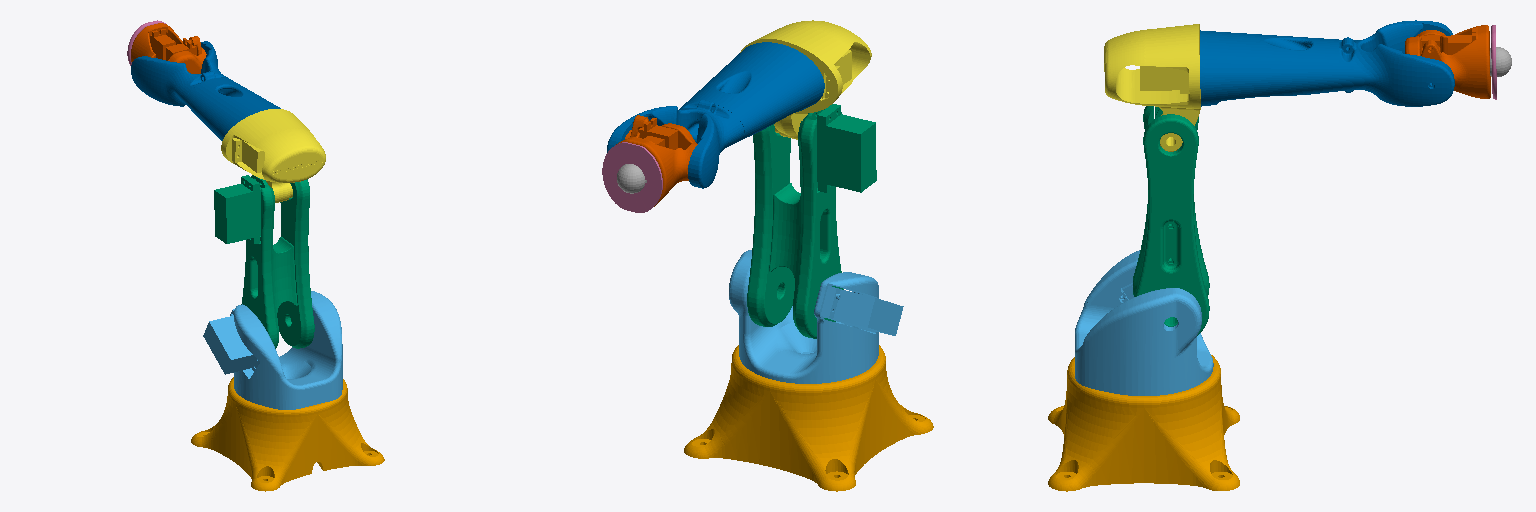
The robot description file, URDF, robot "yara":
<?xml version="1.0" encoding="utf-8"?>
<!-- =================================================================================== -->
<!-- |    This document was autogenerated by xacro from yara.urdf.xacro                | -->
<!-- |    EDITING THIS FILE BY HAND IS NOT RECOMMENDED                                 | -->
<!-- =================================================================================== -->
<robot name="yara">
  <link name="base_link">
    <visual>
      <geometry>
        <mesh filename="package://yara_meshes/files/base.obj"/>
      </geometry>
      <origin rpy="0 0 3.14159265359" xyz="0 0 0"/>
    </visual>
  </link>
  <link name="link_1">
    <visual>
      <geometry>
        <mesh filename="package://yara_meshes/files/link1.obj"/>
      </geometry>
      <origin rpy="0 0 3.14159265359" xyz="0 0 -0.054355"/>
    </visual>
  </link>
  <joint name="base_to_link_1" type="revolute">
    <axis xyz="0 0 1"/>
    <limit effort="1000.0" lower="-1.57079632679" upper="1.57079632679" velocity="0.5"/>
    <parent link="base_link"/>
    <child link="link_1"/>
    <origin rpy="0 0 0" xyz="0 0 0.054355"/>
  </joint>
  <link name="link_2">
    <visual>
      <geometry>
        <mesh filename="package://yara_meshes/files/link2.obj"/>
      </geometry>
      <origin rpy="0 0 3.14159265359" xyz="0 -.017415 -.109967"/>
    </visual>
  </link>
  <joint name="link_1_to_link_2" type="revolute">
    <axis xyz="1 0 0"/>
    <limit effort="1000.0" lower="-1.57079632679" upper="1.57079632679" velocity="0.5"/>
    <parent link="link_1"/>
    <child link="link_2"/>
    <origin rpy="0 0 0" xyz="0 .017415 0.055612"/>
  </joint>
  <link name="link_3">
    <visual>
      <geometry>
        <mesh filename="package://yara_meshes/files/link3.obj"/>
      </geometry>
      <origin rpy="0 0 3.14159265359" xyz="0 -.017415 -.229967"/>
    </visual>
  </link>
  <joint name="link_2_to_link_3" type="revolute">
    <axis xyz="1 0 0"/>
    <limit effort="1000.0" lower="-1.57079632679" upper="1.57079632679" velocity="0.5"/>
    <parent link="link_2"/>
    <child link="link_3"/>
    <origin rpy="0 0 0" xyz="0 0 0.12"/>
  </joint>
  <link name="link_4">
    <visual>
      <geometry>
        <mesh filename="package://yara_meshes/files/link4.obj"/>
      </geometry>
      <origin rpy="0 0 3.14159265359" xyz="0 -.041358 -.273945"/>
    </visual>
  </link>
  <joint name="link_3_to_link_4" type="revolute">
    <axis xyz="0 1 0"/>
    <limit effort="1000.0" lower="-1.57079632679" upper="1.57079632679" velocity="0.5"/>
    <parent link="link_3"/>
    <child link="link_4"/>
    <origin rpy="0 0 0" xyz="0 0.023943 0.043978"/>
  </joint>
  <link name="link_5">
    <visual>
      <geometry>
        <mesh filename="package://yara_meshes/files/link5.obj"/>
      </geometry>
      <origin rpy="0 0 3.14159265359" xyz="0 -0.186507 -.277517"/>
    </visual>
  </link>
  <joint name="link_4_to_link_5" type="revolute">
    <axis xyz="-1 0 0"/>
    <limit effort="1000.0" lower="-1.57079632679" upper="1.57079632679" velocity="0.5"/>
    <parent link="link_4"/>
    <child link="link_5"/>
    <origin rpy="0 0 0" xyz="0 0.145149 0.003572"/>
  </joint>
  <link name="link_6">
    <visual>
      <geometry>
        <mesh filename="package://yara_meshes/files/link6.obj"/>
      </geometry>
      <origin rpy="0 0 3.14159265359" xyz="0 -0.228778 -.27839"/>
    </visual>
  </link>
  <joint name="link_5_to_link_6" type="revolute">
    <axis xyz="0 1 0"/>
    <limit effort="1000.0" lower="-1.57079632679" upper="1.57079632679" velocity="0.5"/>
    <parent link="link_5"/>
    <child link="link_6"/>
    <origin rpy="0 0 0" xyz="0 0.042271 0.000873"/>
  </joint>
  <link name="ee">
    <visual>
      <geometry>
        <sphere radius=".01"/>
      </geometry>
      <origin rpy="0 0 0" xyz="0 0 0"/>
    </visual>
  </link>
  <joint name="link_6_to_ee" type="fixed">
    <parent link="link_6"/>
    <child link="ee"/>
    <origin rpy="0 0 0" xyz="0 0 0"/>
  </joint>
    <transmission name="trans_base_to_link_1">
        <type>transmission_interface/SimpleTransmission</type>
        <joint name="base_to_link_1">
            <hardwareInterface>hardware_interface/PositionJointInterface</hardwareInterface>
        </joint>
        <actuator name="base_to_link_1_motor">
            <hardwareInterface>hardware_interface/PositionJointInterface</hardwareInterface>
            <mechanicalReduction>1</mechanicalReduction>
        </actuator>
    </transmission>
    <transmission name="trans_link_1_to_link_2">
        <type>transmission_interface/SimpleTransmission</type>
        <joint name="link_1_to_link_2">
            <hardwareInterface>hardware_interface/PositionJointInterface</hardwareInterface>
        </joint>
        <actuator name="link_1_to_link_2_motor">
            <hardwareInterface>hardware_interface/PositionJointInterface</hardwareInterface>
            <mechanicalReduction>1</mechanicalReduction>
        </actuator>
    </transmission>
    <transmission name="trans_link_2_to_link_3">
        <type>transmission_interface/SimpleTransmission</type>
        <joint name="link_2_to_link_3">
            <hardwareInterface>hardware_interface/PositionJointInterface</hardwareInterface>
        </joint>
        <actuator name="link_2_to_link_3_motor">
            <hardwareInterface>hardware_interface/PositionJointInterface</hardwareInterface>
            <mechanicalReduction>1</mechanicalReduction>
        </actuator>
    </transmission>
    <transmission name="trans_link_3_to_link_4">
        <type>transmission_interface/SimpleTransmission</type>
        <joint name="link_3_to_link_4">
            <hardwareInterface>hardware_interface/PositionJointInterface</hardwareInterface>
        </joint>
        <actuator name="link_3_to_link_4_motor">
            <hardwareInterface>hardware_interface/PositionJointInterface</hardwareInterface>
            <mechanicalReduction>1</mechanicalReduction>
        </actuator>
    </transmission>
    <transmission name="trans_link_4_to_link_5">
        <type>transmission_interface/SimpleTransmission</type>
        <joint name="link_4_to_link_5">
            <hardwareInterface>hardware_interface/PositionJointInterface</hardwareInterface>
        </joint>
        <actuator name="link_4_to_link_5_motor">
            <hardwareInterface>hardware_interface/PositionJointInterface</hardwareInterface>
            <mechanicalReduction>1</mechanicalReduction>
        </actuator>
    </transmission>
    <transmission name="trans_link_5_to_link_6">
        <type>transmission_interface/SimpleTransmission</type>
        <joint name="link_5_to_link_6">
            <hardwareInterface>hardware_interface/PositionJointInterface</hardwareInterface>
        </joint>
        <actuator name="link_5_to_link_6_motor">
            <hardwareInterface>hardware_interface/PositionJointInterface</hardwareInterface>
            <mechanicalReduction>1</mechanicalReduction>
        </actuator>
    </transmission>
    <gazebo>
        <plugin name="gazebo_ros_control" filename="libgazebo_ros_control.so">
            <robotNamespace>/</robotNamespace>
        </plugin>
    </gazebo>
</robot>

--- Render facts (derived) ---
3 views of the same robot in one strip: view 1: azimuth 30°, elevation 25°; view 2: azimuth 150°, elevation 25°; view 3: azimuth 270°, elevation 25° (orthographic).
Robot: yara — 8 links, 7 joints (6 revolute, 1 fixed); root link base_link; default pose: all joints at 0.
Links seen in each view (by area): view 1: link_2, base_link, link_1, link_3, link_4, link_5; view 2: link_2, base_link, link_1, link_4, link_3, link_5, link_6, ee; view 3: base_link, link_4, link_1, link_2, link_3, link_5.
Boxes of the visible links, x1=… form: link_2: x1=214, y1=175, x2=314, y2=348; base_link: x1=191, y1=377, x2=384, y2=491; link_1: x1=203, y1=291, x2=342, y2=409; link_3: x1=221, y1=109, x2=325, y2=202; link_4: x1=131, y1=41, x2=280, y2=140; link_5: x1=131, y1=23, x2=206, y2=73; link_2: x1=747, y1=104, x2=876, y2=338; base_link: x1=684, y1=345, x2=933, y2=491; link_1: x1=729, y1=250, x2=903, y2=383; link_4: x1=607, y1=42, x2=824, y2=188; link_3: x1=740, y1=20, x2=871, y2=139; link_5: x1=616, y1=115, x2=697, y2=206; link_6: x1=602, y1=142, x2=662, y2=212; ee: x1=617, y1=164, x2=646, y2=193; base_link: x1=1048, y1=355, x2=1239, y2=491; link_4: x1=1200, y1=20, x2=1454, y2=106; link_1: x1=1075, y1=250, x2=1213, y2=395; link_2: x1=1133, y1=106, x2=1209, y2=335; link_3: x1=1104, y1=24, x2=1200, y2=151; link_5: x1=1405, y1=25, x2=1490, y2=98.
Size in the robot's own frame: 0.1252 by 0.3013 by 0.302 metres.
7 mesh visuals loaded from 7 distinct referenced files (7 OBJ).
